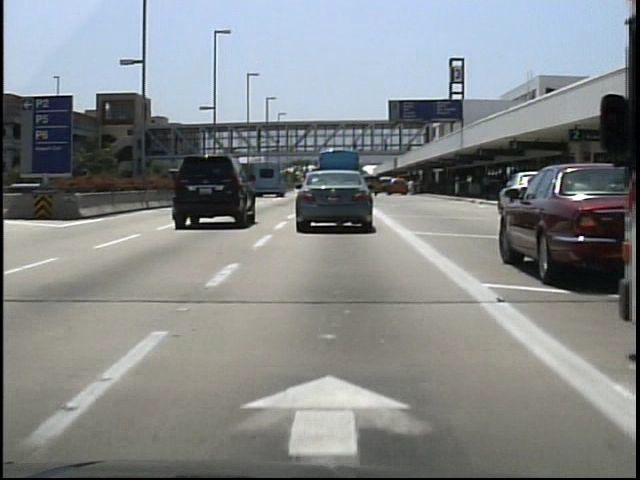person: (402, 176, 417, 200), (381, 136, 394, 158), (348, 136, 361, 156)
